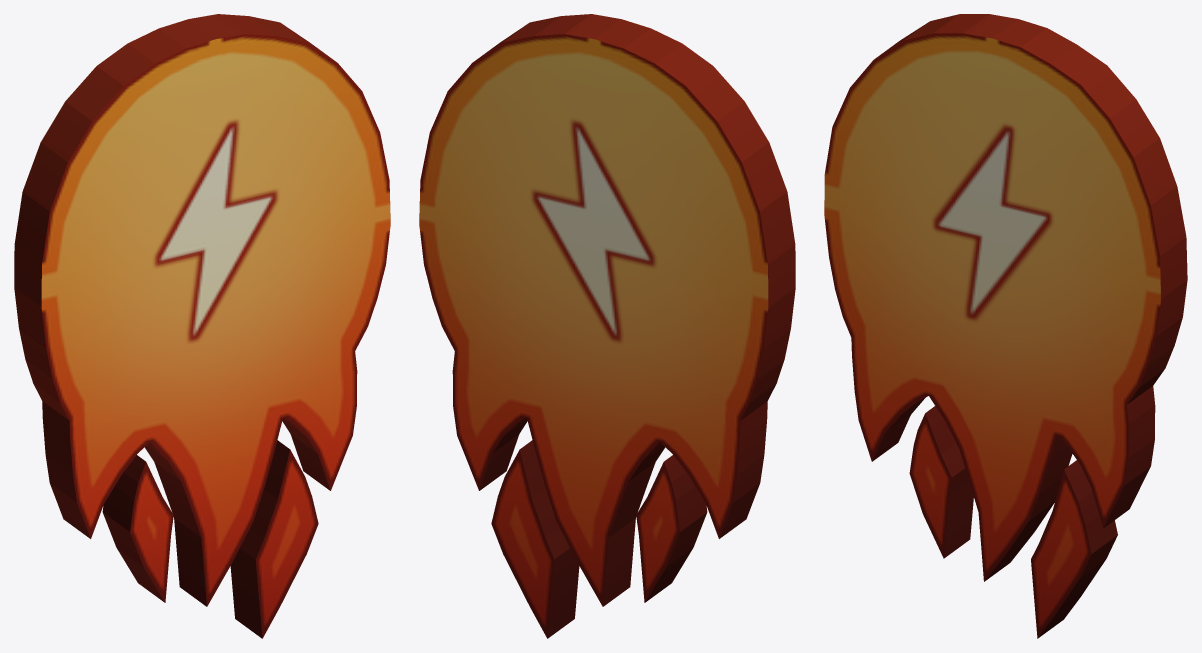
File: energy-token.gltf
The picture shows the model from 3 angles, left to right: view 1: azimuth 30°, elevation 25°; view 2: azimuth 150°, elevation 25°; view 3: azimuth 330°, elevation 25°; orthographic projection. The views are drawn at different scales.
Parts seen in each view (by area): view 1: fire; view 2: fire; view 3: fire.
Part boxes in pixels (x1=…): fire: x1=14, y1=14, x2=390, y2=638; fire: x1=419, y1=14, x2=795, y2=638; fire: x1=824, y1=14, x2=1187, y2=638.
Bounding box in the file's own units: 0.9566 × 1.6 × 0.13.
Materials: 1 (1 with a texture image).
